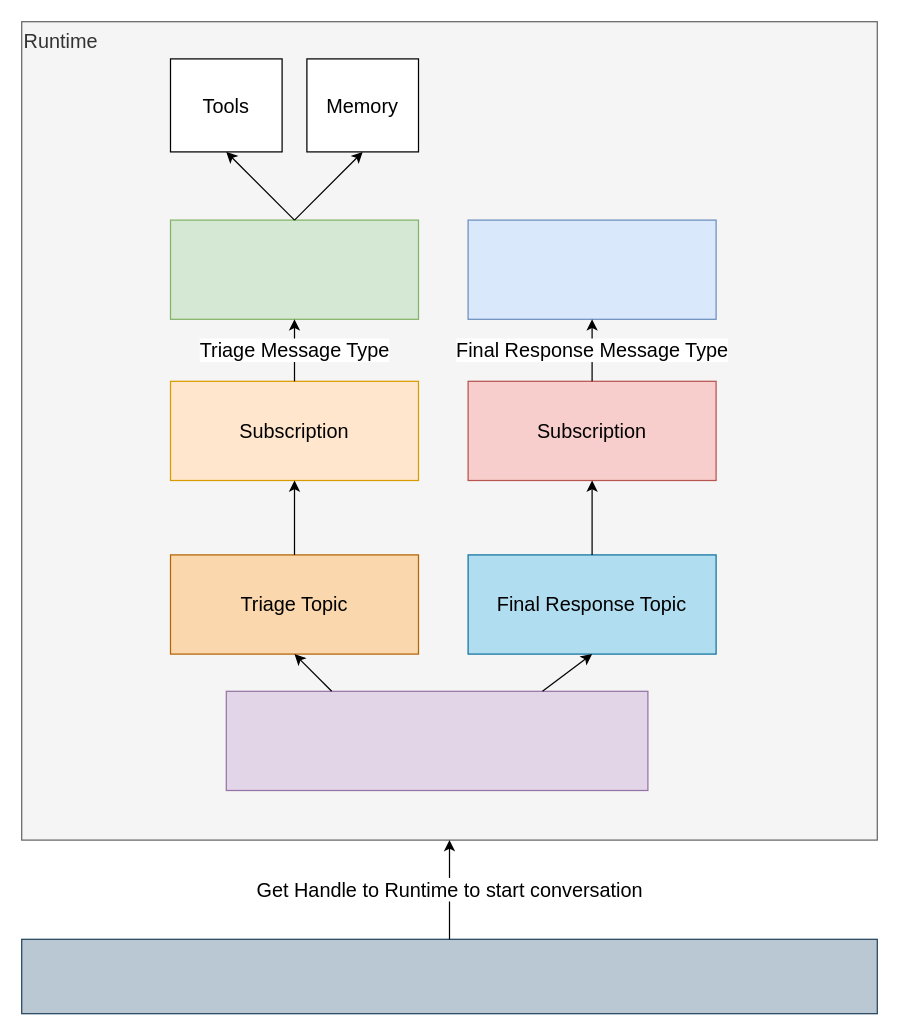
Image size: 899x1035. Some labels were removed from this diagram. The box of each missing label's shape, as (x1, y1, x2, y2) in pixels:
App Layer: (20, 938, 877, 1014)
Final Response Agent: (467, 219, 716, 319)
Topic: (225, 690, 648, 790)
Triage Agent: (169, 219, 418, 319)
